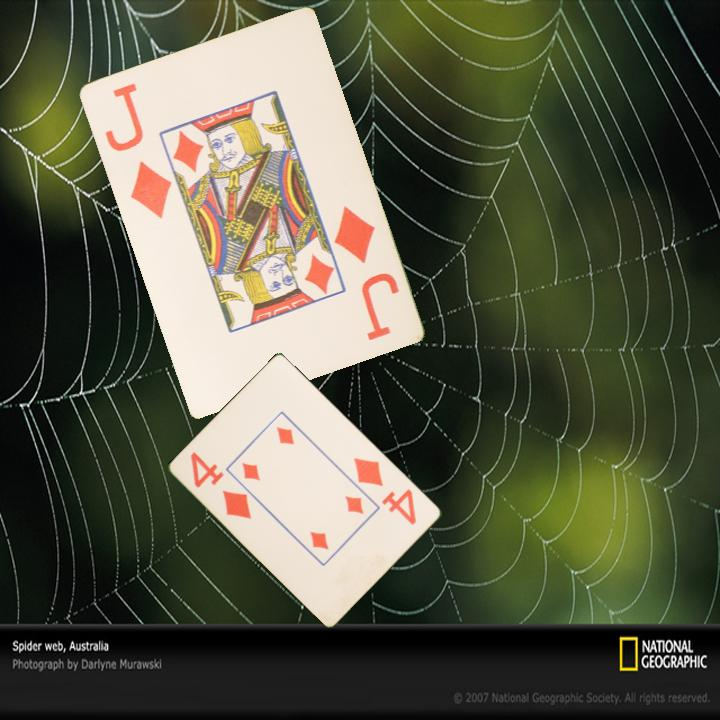4d: (351, 454, 420, 528), (187, 448, 255, 522)
Jd: (100, 79, 174, 221), (329, 201, 402, 344)
